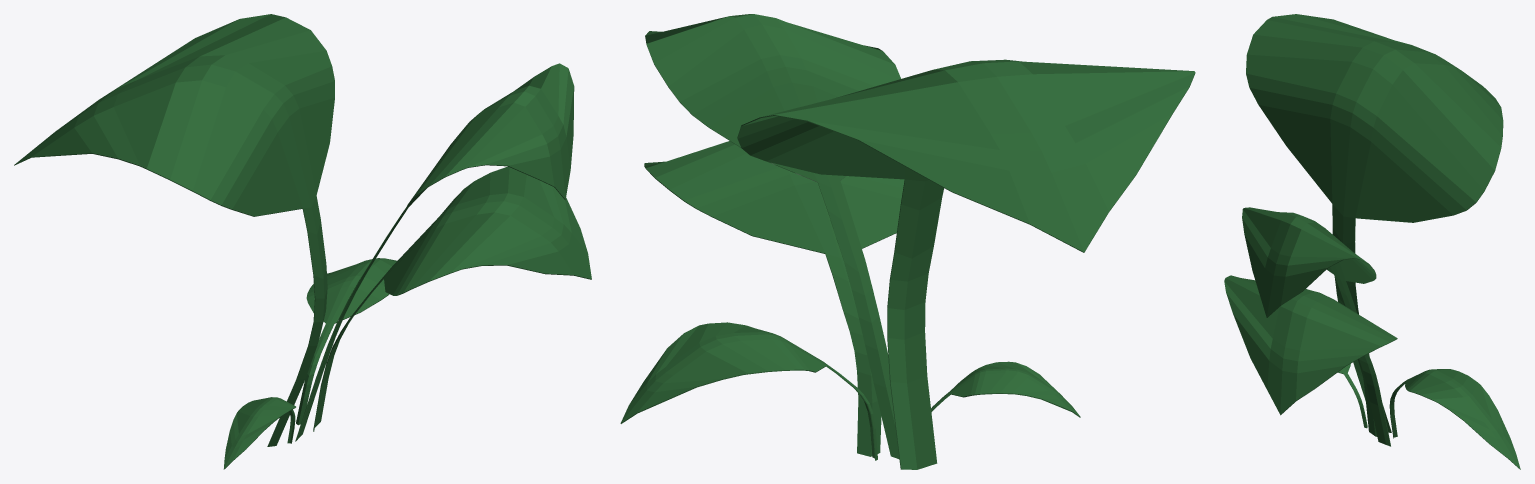
File: planteparterre.fbx
The picture shows the model from 3 angles, left to right: view 1: azimuth 30°, elevation 25°; view 2: azimuth 150°, elevation 25°; view 3: azimuth 270°, elevation 25°; orthographic projection. The views are drawn at different scales.
Visible parts, largest first — view 1: plante par terre; view 2: plante par terre; view 3: plante par terre.
Part boxes in pixels (box(x1,y1,x2,y2)): plante par terre: box(14, 14, 591, 469); plante par terre: box(620, 14, 1195, 469); plante par terre: box(1224, 14, 1520, 469).
Size of the model in its own units: 44.98 by 26.95 by 35.03.
